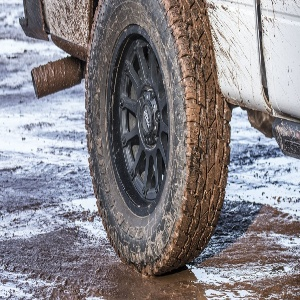train: (84, 1, 237, 277)
